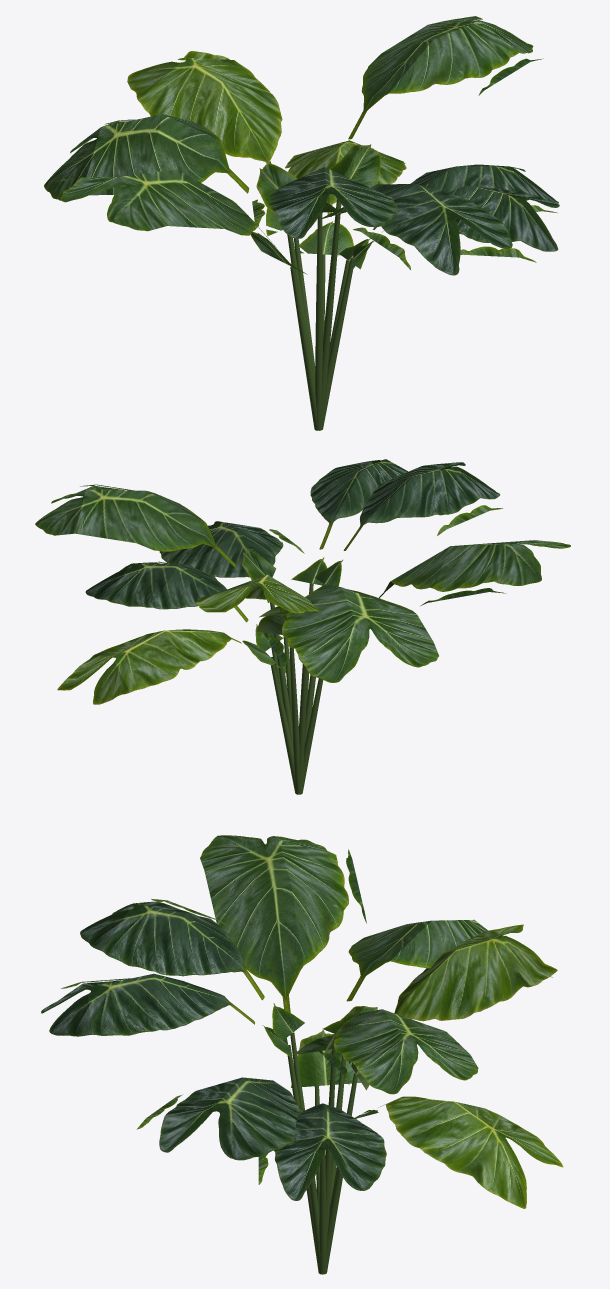
File: broadleaf_02.glb
3 renders of one model, top to bottom at view 1: azimuth 30°, elevation 25°; view 2: azimuth 150°, elevation 25°; view 3: azimuth 270°, elevation 25°, orthographic. The views are drawn at different scales.
Visible parts, largest first — view 1: broadleaf_02; view 2: broadleaf_02; view 3: broadleaf_02.
Boxes of the visible parts, x1,y1,x2,y2 form: broadleaf_02: [44, 16, 559, 430]; broadleaf_02: [35, 459, 570, 794]; broadleaf_02: [41, 835, 563, 1274].
Bounding box in the file's own units: 2.72 × 1.5 × 2.37.
Materials: 2 (1 with a texture image).
